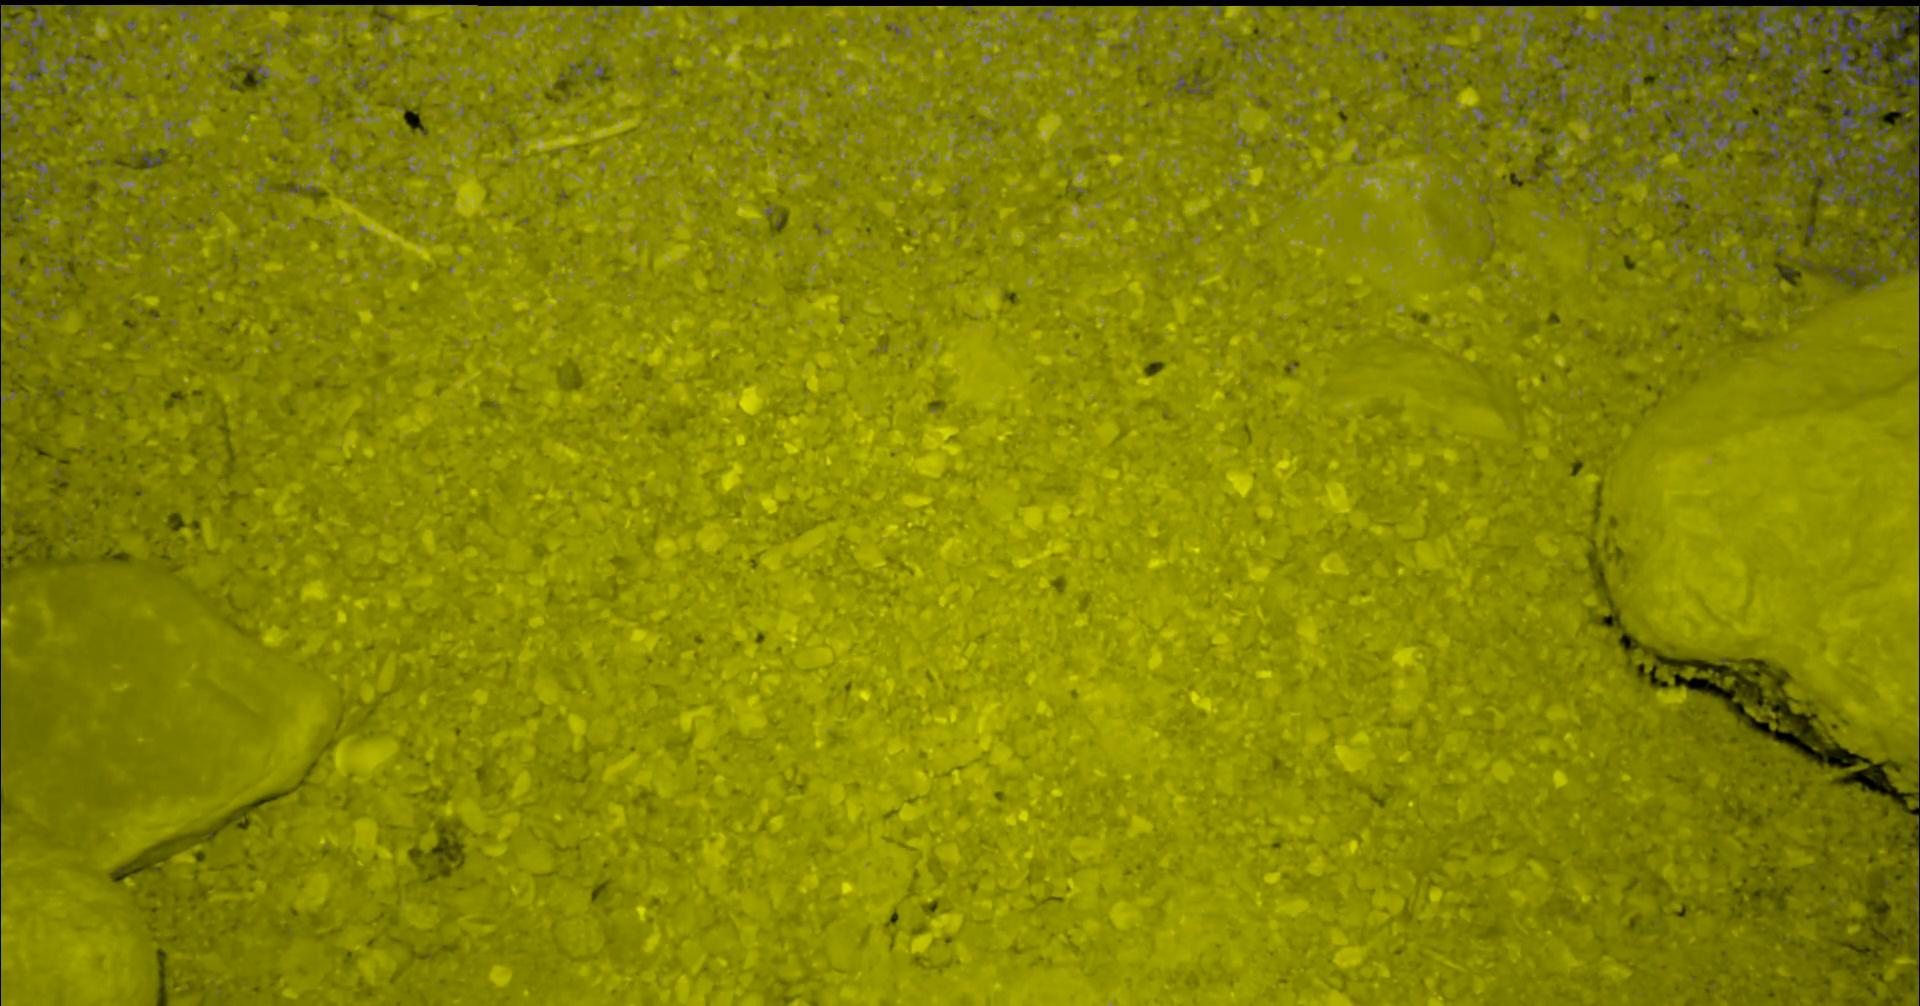ant: (1869, 133, 1919, 205), (1829, 89, 1890, 138), (1886, 36, 1919, 112), (1829, 174, 1877, 206), (1751, 10, 1789, 38), (1890, 5, 1919, 39), (1901, 218, 1919, 269), (1845, 263, 1884, 286), (1782, 64, 1807, 97), (1710, 23, 1737, 53), (1825, 145, 1857, 170), (1771, 36, 1804, 60), (1761, 105, 1783, 141), (1807, 156, 1823, 191), (1790, 5, 1807, 36), (1912, 909, 1919, 984), (1902, 111, 1919, 135), (1727, 79, 1741, 105), (0, 34, 9, 75), (1784, 133, 1807, 149), (141, 150, 161, 166), (29, 8, 44, 29), (1722, 5, 1743, 19), (1186, 75, 1203, 93), (1699, 55, 1718, 70), (0, 154, 4, 220)
